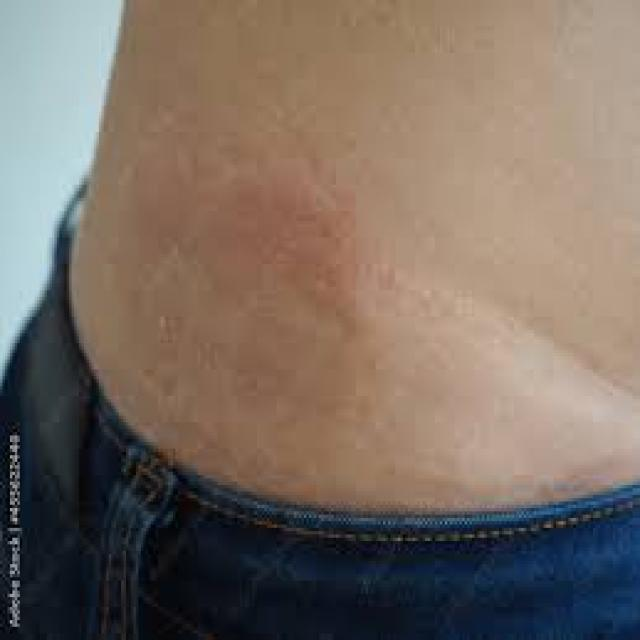Acanthosis Nigricans: (81, 61, 640, 501)
